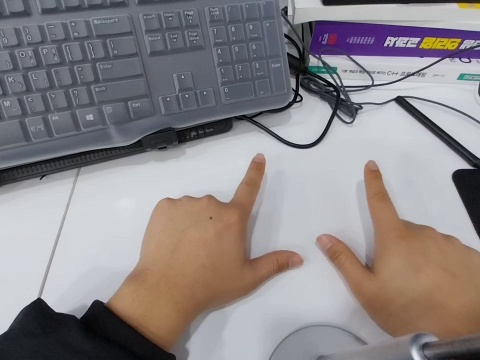fingers: (314, 234, 334, 252), (287, 252, 304, 271), (366, 159, 379, 171), (252, 152, 266, 163)
